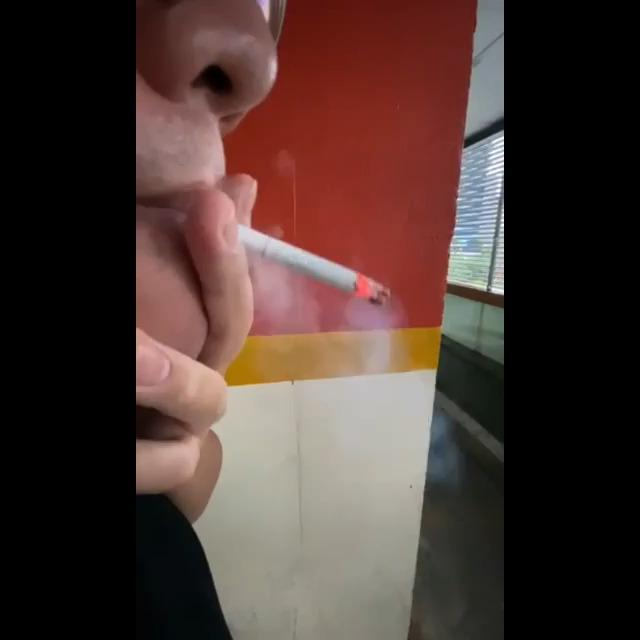rokok: (222, 202, 400, 320)
